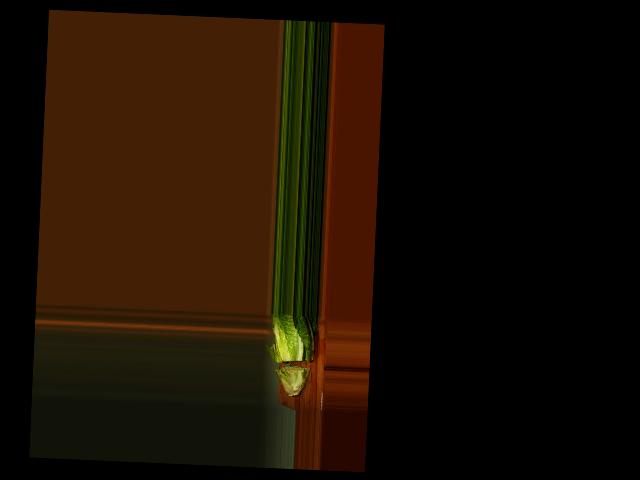lettuce: (266, 314, 320, 396)
